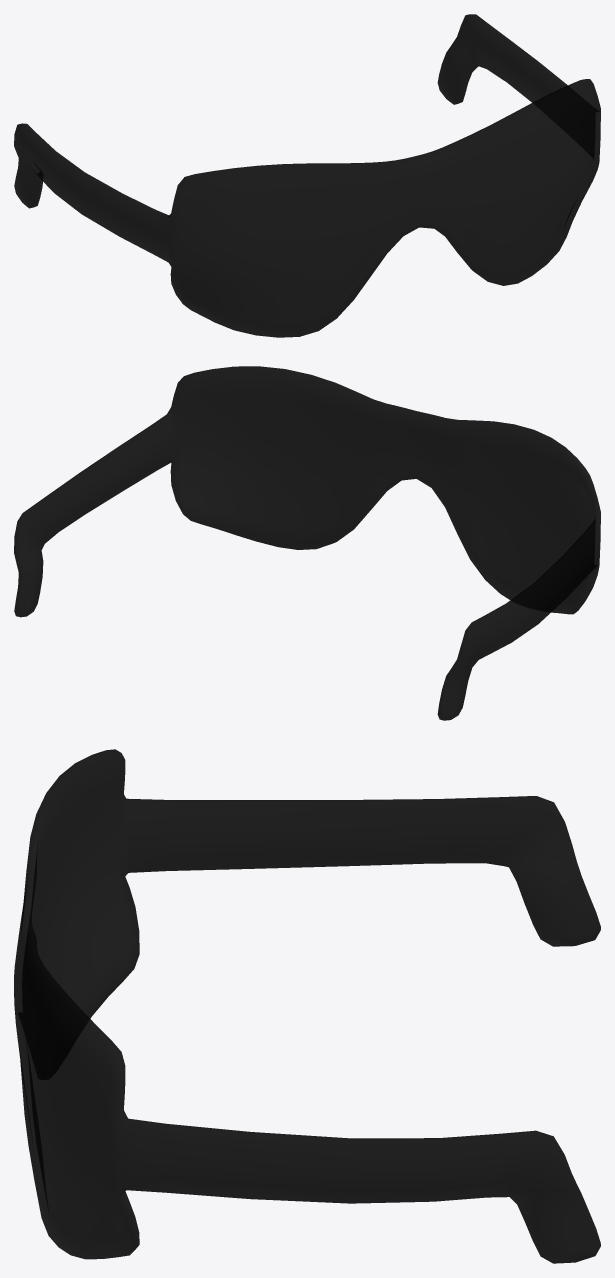
File: Sun_Glasses.fbx
3 renders of one model, top to bottom at view 1: azimuth 30°, elevation 25°; view 2: azimuth 150°, elevation 25°; view 3: azimuth 270°, elevation 25°, orthographic. The views are drawn at different scales.
Parts seen in each view (by area): view 1: Sun_Glasses_Melee; view 2: Sun_Glasses_Melee; view 3: Sun_Glasses_Melee.
Boxes of the visible parts, x1,y1,x2,y2 form: Sun_Glasses_Melee: (14, 14, 600, 337); Sun_Glasses_Melee: (14, 366, 600, 720); Sun_Glasses_Melee: (14, 749, 600, 1263).
Bounding box in the file's own units: 99.46 × 36.45 × 71.98.
